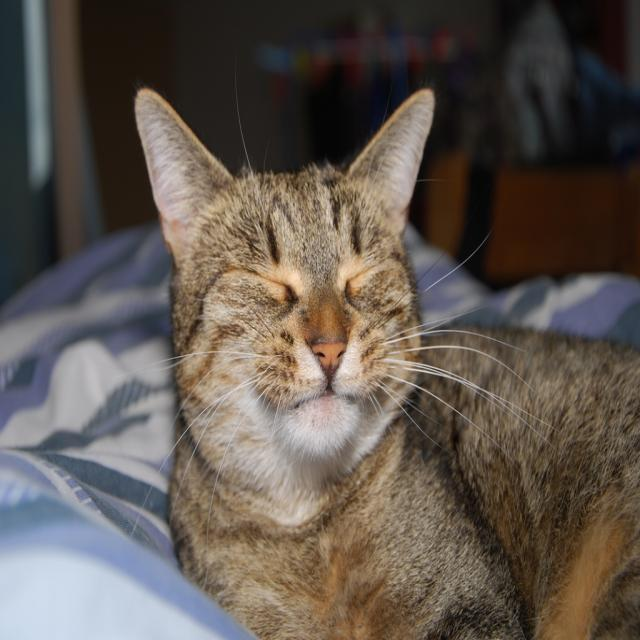Cat: (126, 93, 639, 638)
